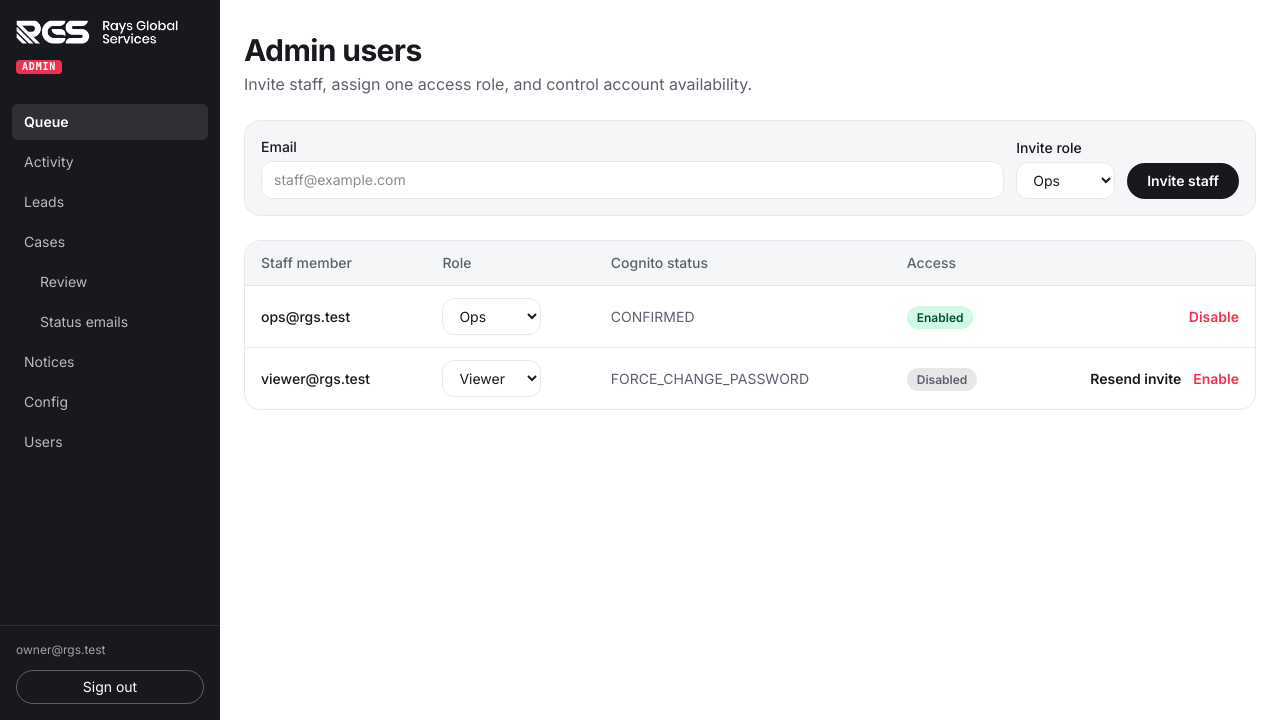
Test case: AdminUsersPage › shows API error text for rejected writes
Expected: the text "ops@rgs.test" is shown, x1=245 y1=286 x2=426 y2=348
Type "blocked@rgs.test" into the field labelled "Email" at (633, 180), box x1=261 y1=161 x2=1004 y2=199
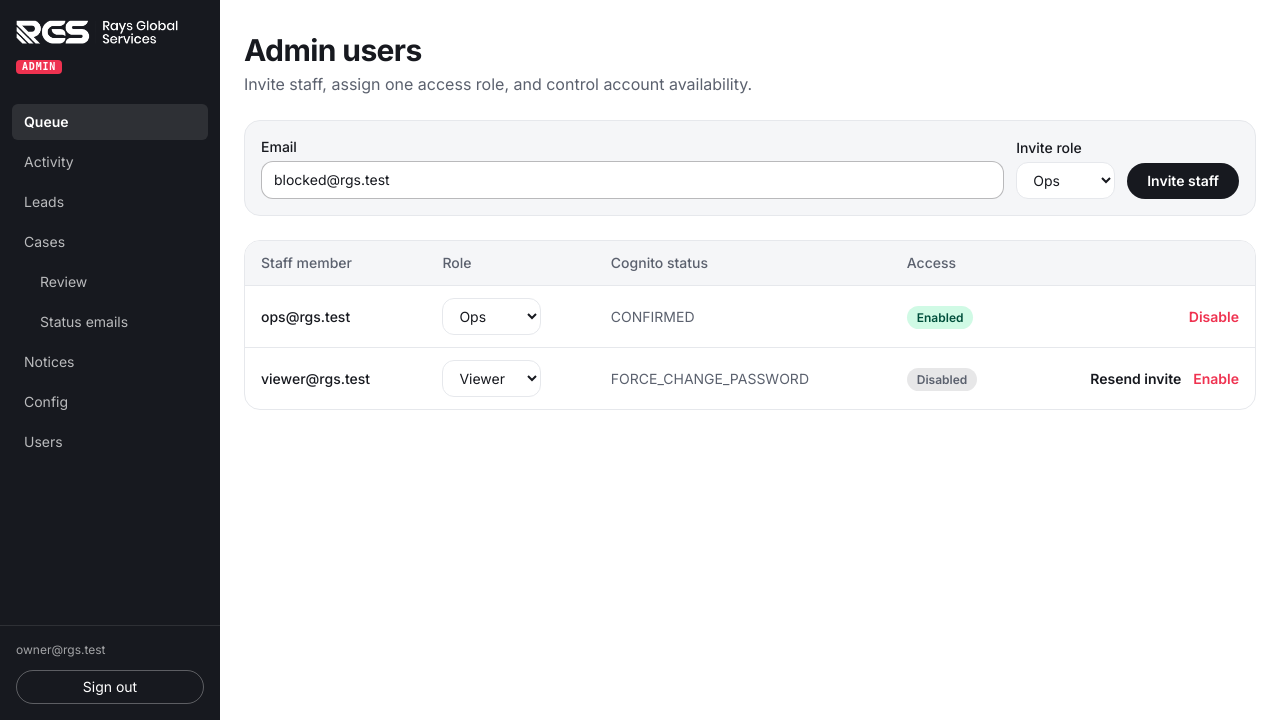
Click the button "Invite staff" at (1183, 181), box x1=1127 y1=163 x2=1239 y2=199
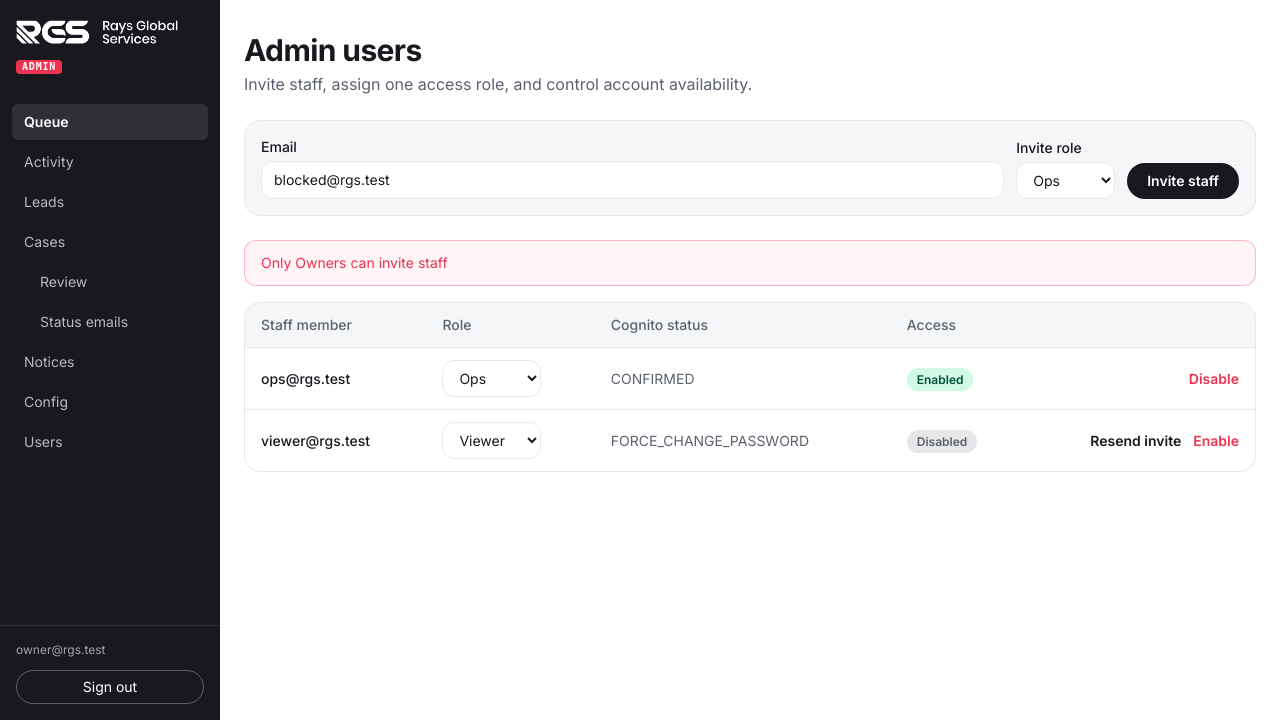
Expected: the text "Only Owners can invite staff" is shown, x1=244 y1=240 x2=1256 y2=286
